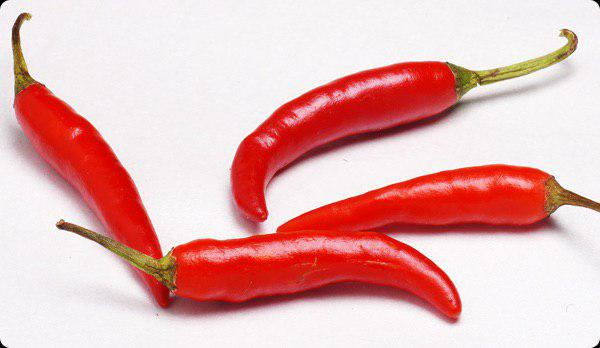lada merah: (221, 34, 478, 223), (11, 70, 176, 317), (143, 218, 498, 325), (290, 155, 564, 248)
